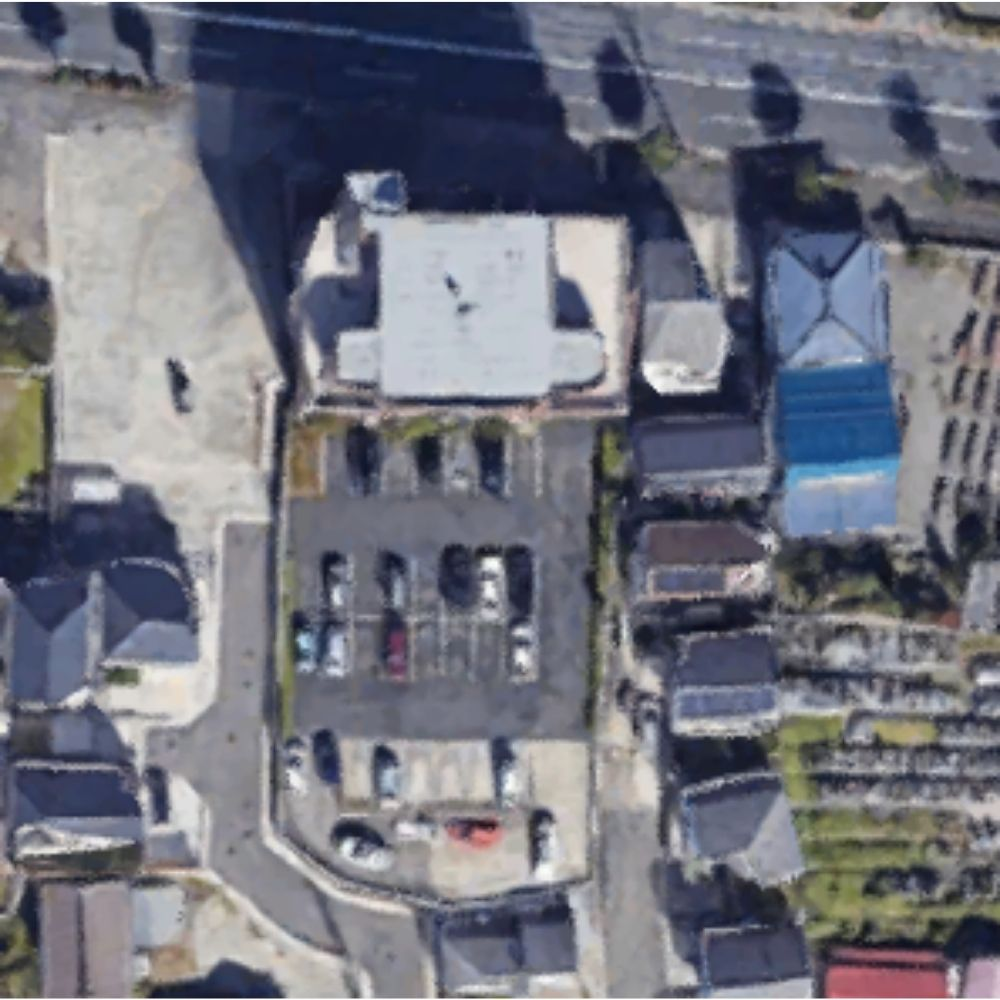parking: (280, 415, 590, 900)
